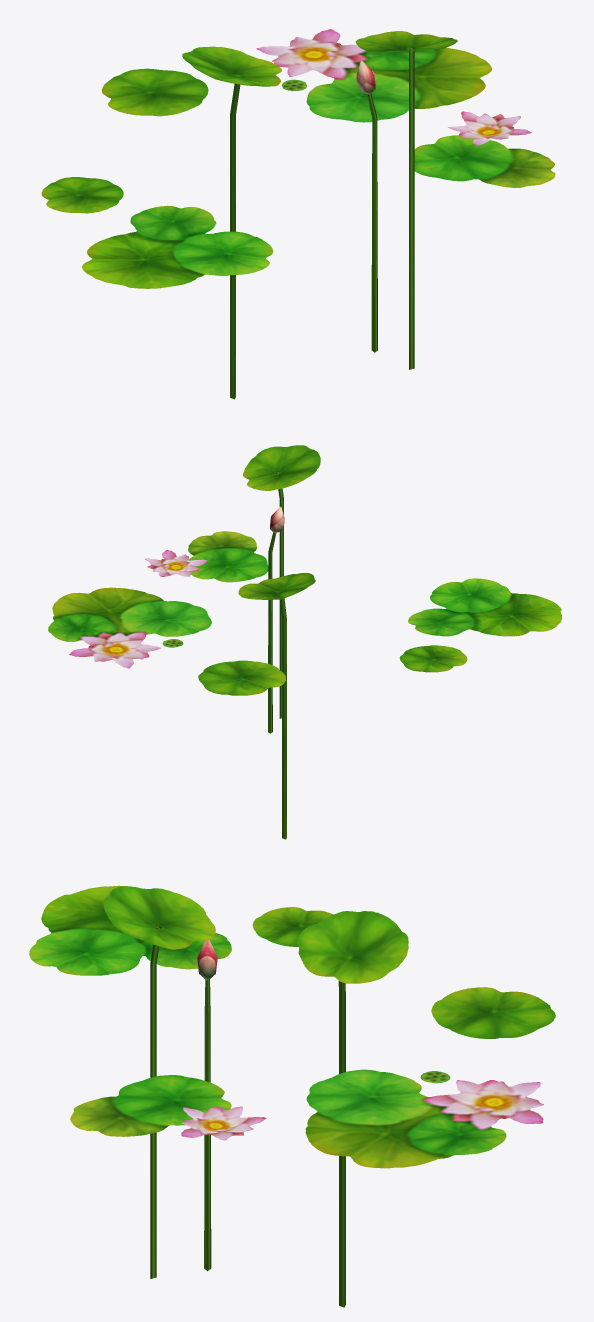
Rendered from szc_flower_heye01a.FBX.
The picture shows the model from 3 angles, top to bottom: view 1: azimuth 30°, elevation 25°; view 2: azimuth 150°, elevation 25°; view 3: azimuth 270°, elevation 25°; orthographic projection. The views are drawn at different scales.
Parts seen in each view (by area): view 1: szc_flower_heye; view 2: szc_flower_heye; view 3: szc_flower_heye.
Part boxes in pixels (x1,y1,x2,y2): szc_flower_heye: (41, 29, 555, 399); szc_flower_heye: (48, 445, 562, 839); szc_flower_heye: (29, 885, 555, 1307).
Bounding box in the file's own units: 231 × 165 × 186.
